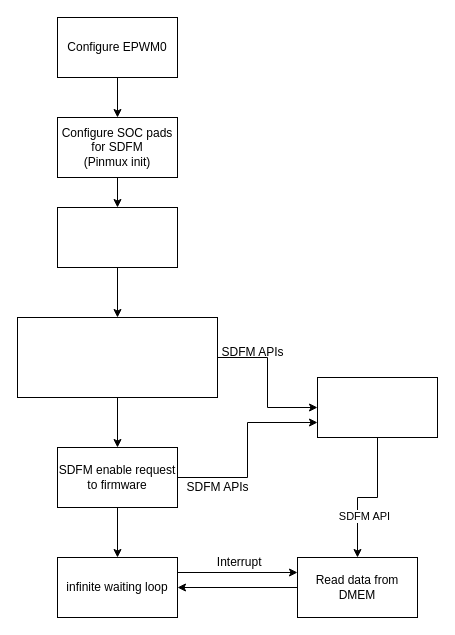
The diagram is 455 pixels wide and 635 high, and some of its shapes have lost their labels. The box of each missing label's shape, as (x1, y1, x2, y2) in pixels:
DMEM: (316, 376, 438, 438)
ICSSG initialization & Firmware load: (56, 206, 178, 268)
Set SDFM channels & channel parameters (OSR, ACC &Clock source, comparator etc): (16, 316, 218, 398)
